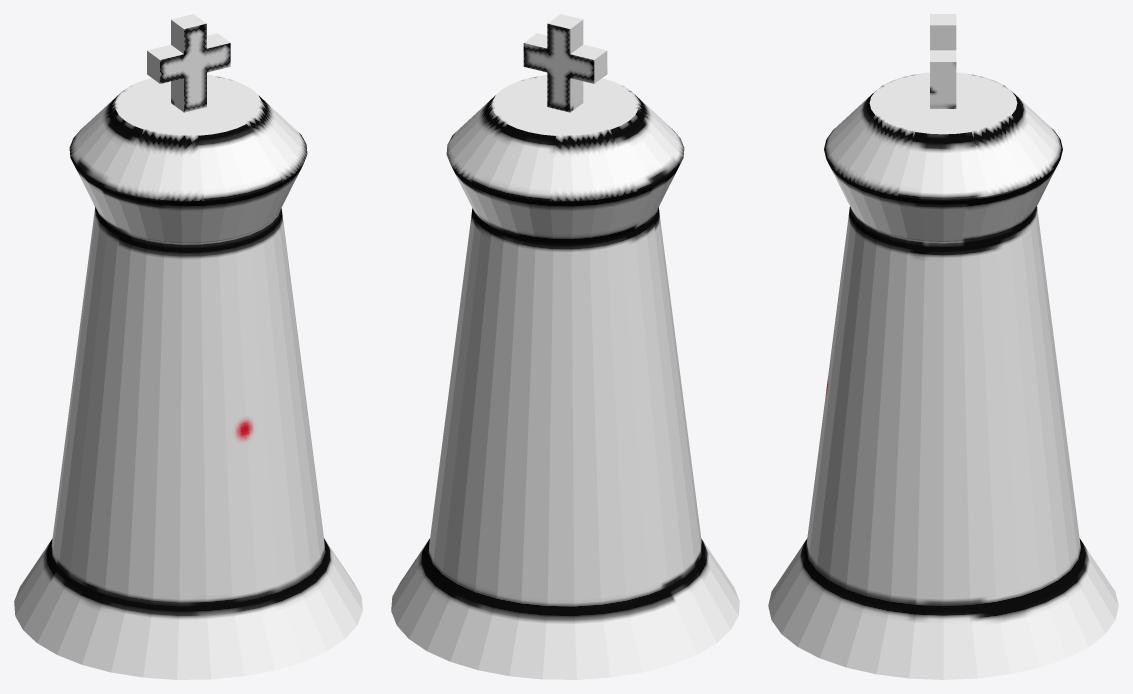
File: w_king.dae
3 views of the same model, side by side, from view 1: azimuth 30°, elevation 25°; view 2: azimuth 150°, elevation 25°; view 3: azimuth 270°, elevation 25° (orthographic).
Visible parts, largest first — view 1: Cylinder; view 2: Cylinder; view 3: Cylinder.
Part boxes in pixels (box(x1,y1,x2,y2)): Cylinder: box(14, 14, 362, 679); Cylinder: box(391, 14, 739, 679); Cylinder: box(768, 14, 1118, 679).
Size of the model in its own units: 2.53 by 2.53 by 4.67.
Materials: 1 (1 with a texture image).
